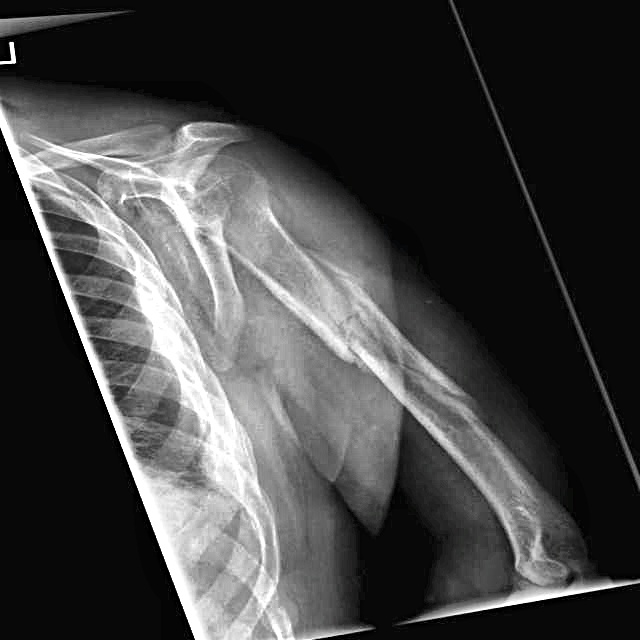Spiral: (280, 245, 437, 399)
